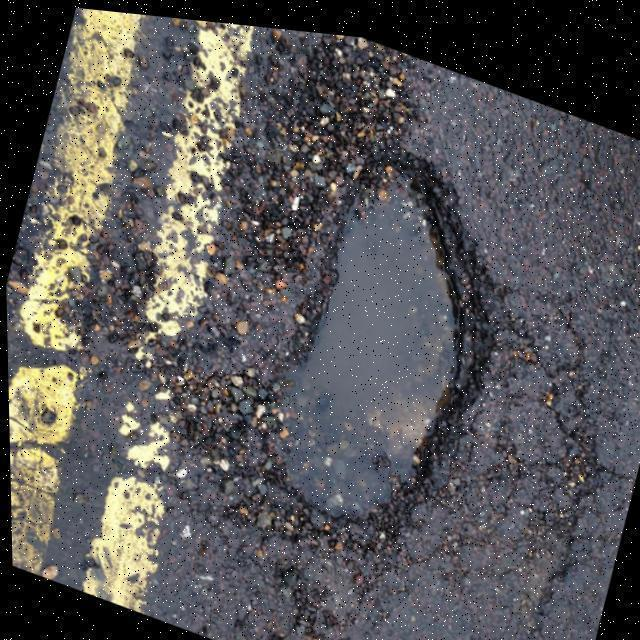Pothole: (254, 142, 498, 545)
